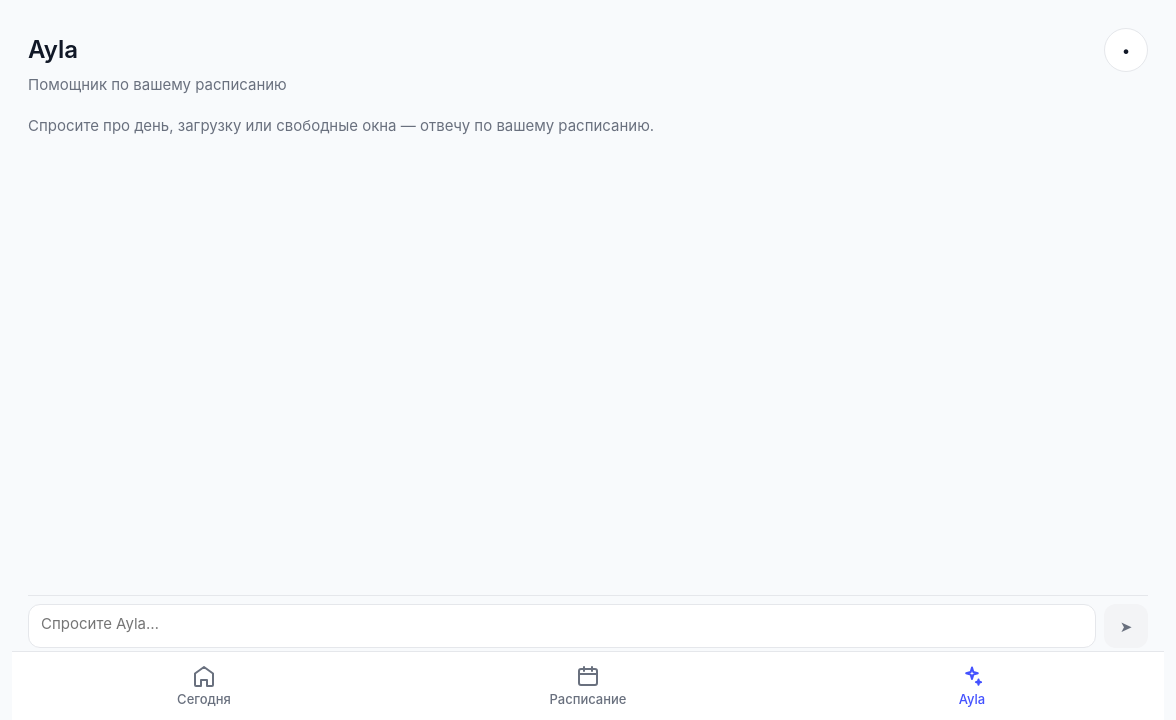
Test: MasterAylaScreen · подтверждение действия (DRF-1180) › предложение показывается словами, а не выполняется
Expected: the text "Спросите про день" is shown, [28, 116, 654, 135]
Type "хочу выходной в пятницу" into the text box named "Вопрос к Ayla" at [562, 626], box [28, 604, 1096, 648]
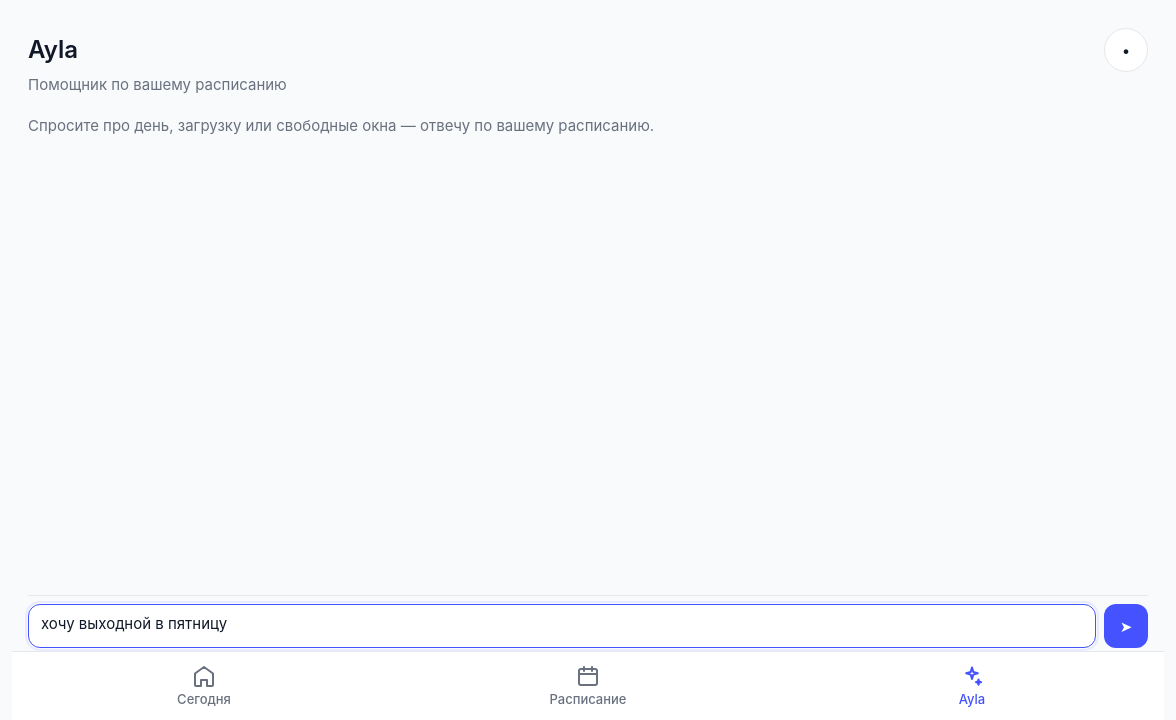
Click the button named "Отправить" at [1126, 626], box [1104, 604, 1148, 648]
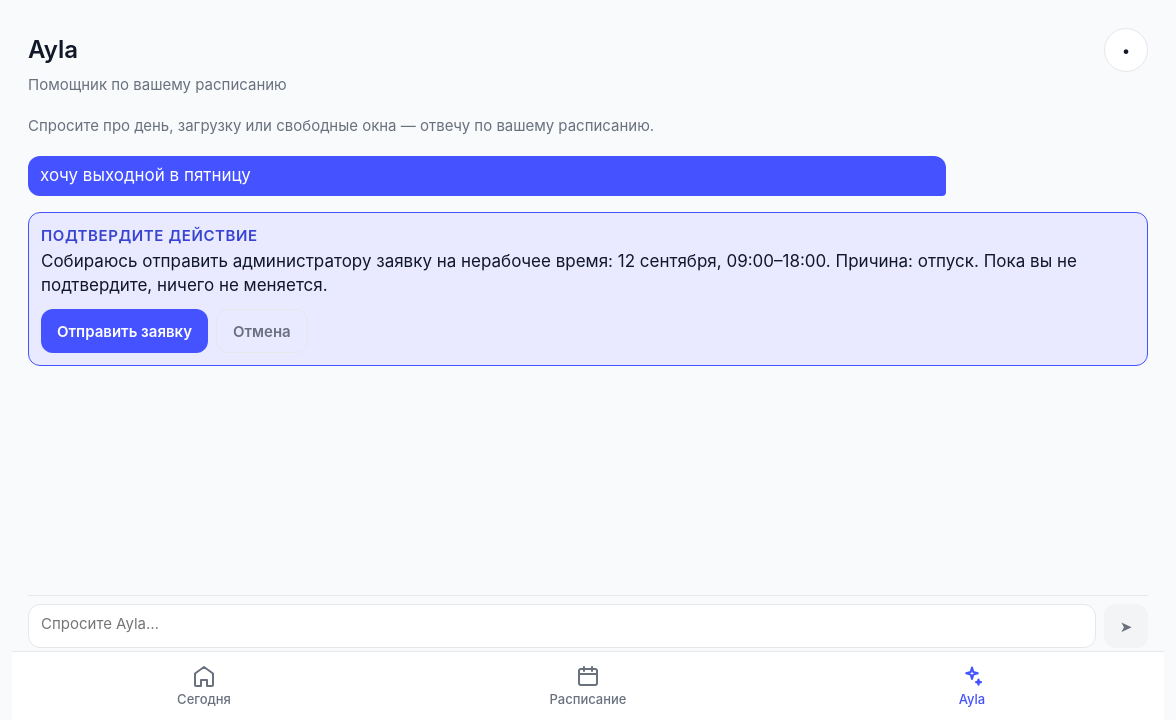
Expected: the heading "Подтвердите действие" is shown, [41, 226, 258, 245]
Expected: the text "заявку на нерабочее время" is shown, [41, 251, 1077, 295]
Expected: the button "Отправить заявку" is shown, [41, 309, 208, 353]
